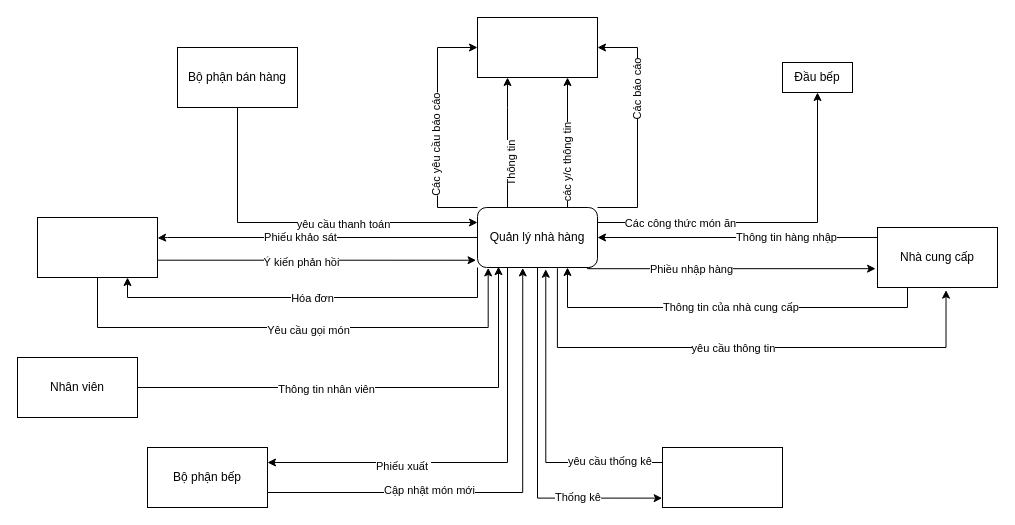
The diagram is 1015 pixels wide and 525 high, and some of its shapes have lost their labels. Here are the shapes that lost their labels. From the top down, the centre of each, then its label:
(537,47): Quản lý
(97,247): khách hàng
(722,477): Bộ phận kho
